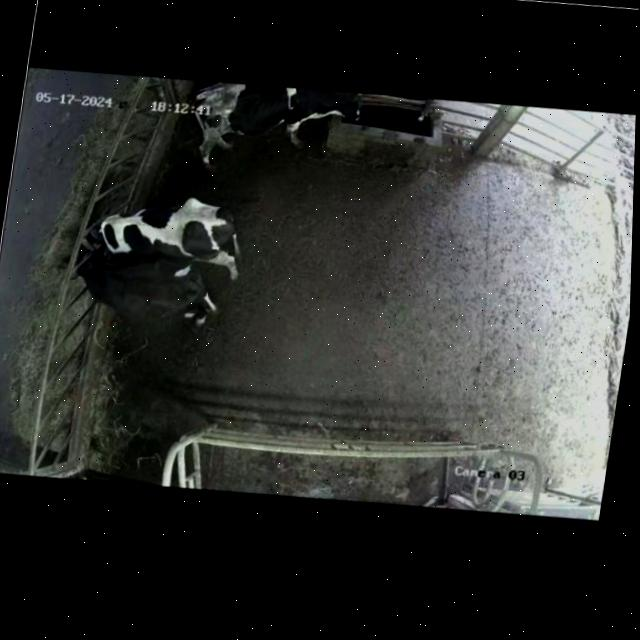drink: (297, 81, 384, 160)
eat: (51, 189, 166, 258), (37, 245, 139, 315)
